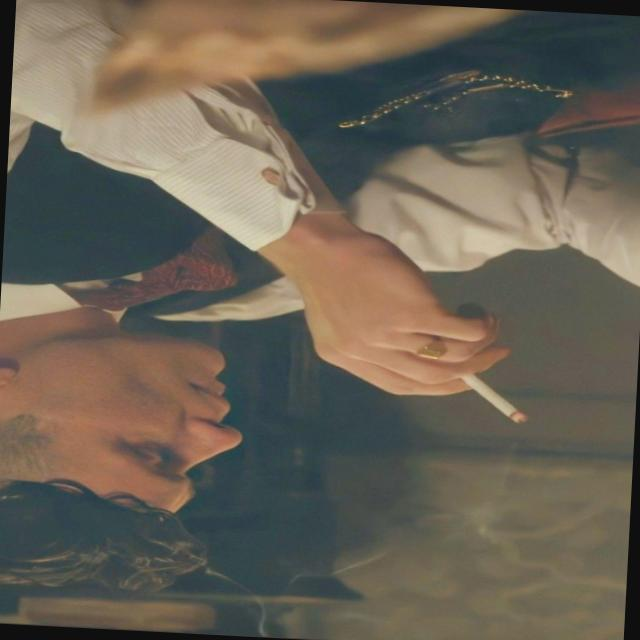smoke: (452, 360, 545, 450)
